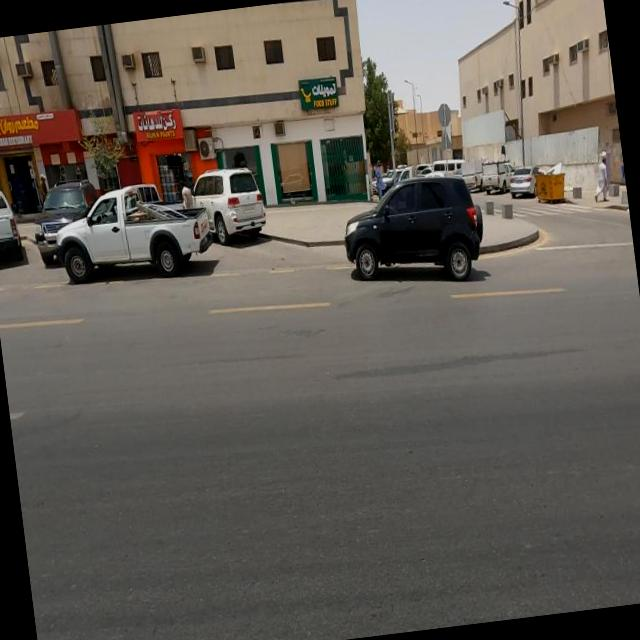debris: (507, 116, 579, 209)
